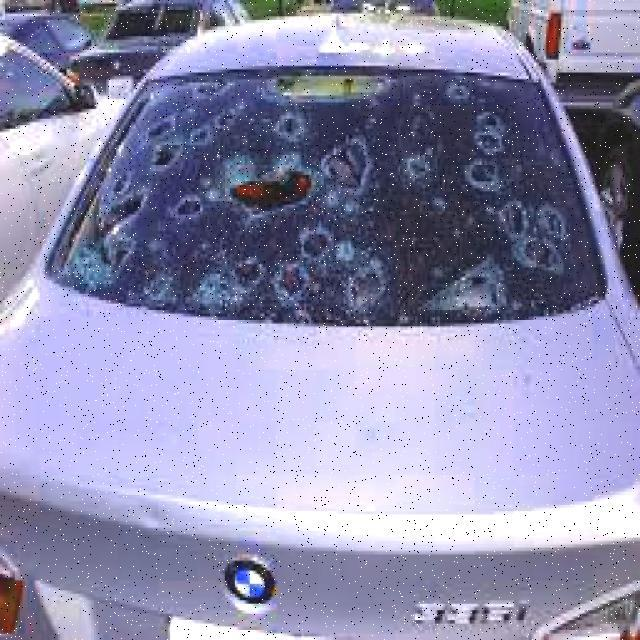car damage: (58, 66, 614, 324)
